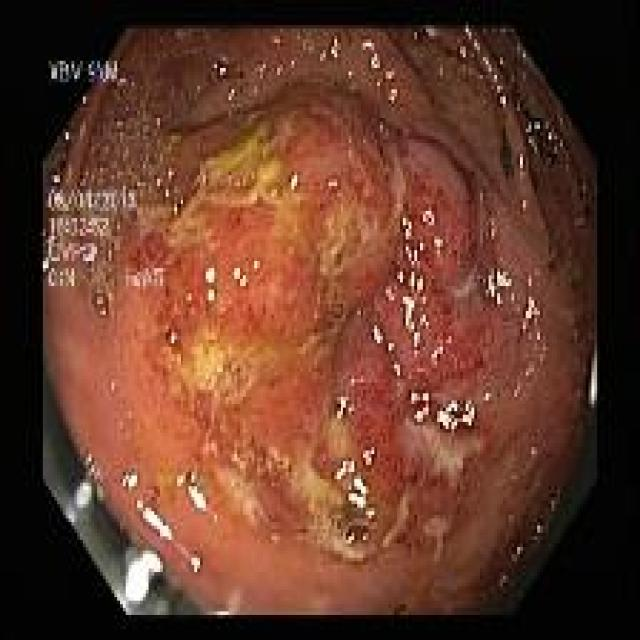ulcerative-colitis: (45, 31, 595, 613)
